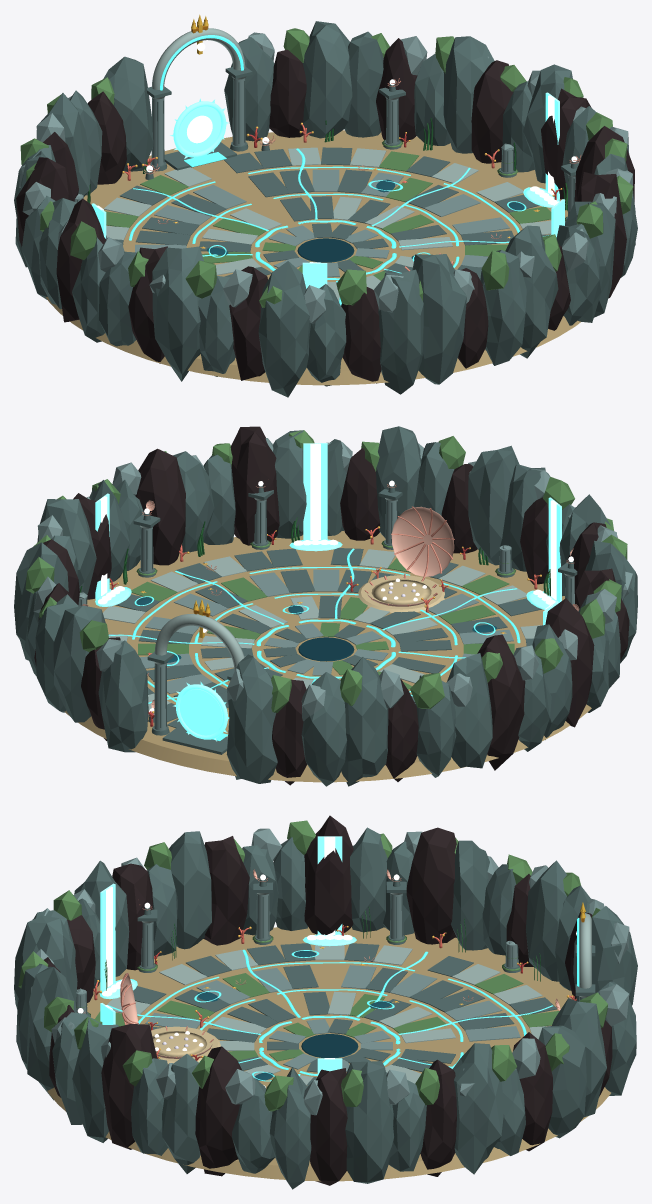
File: TideLair.glb
3 views of the same model, one above another, from view 1: azimuth 30°, elevation 25°; view 2: azimuth 150°, elevation 25°; view 3: azimuth 270°, elevation 25° (orthographic).
Visible parts, largest first — view 1: Walls, Body, Floor, Tide, Water, GlowCore, PortalRing; view 2: Walls, Body, Floor, Water, Tide, GlowCore, PortalRing; view 3: Walls, Body, Floor, Tide, Water, GlowCore.
Part boxes in pixels (x1,y1,x2,y2): Walls: (14, 21, 637, 397); Body: (103, 14, 551, 302); Floor: (45, 130, 580, 385); Tide: (129, 35, 550, 305); Water: (91, 92, 564, 288); GlowCore: (96, 42, 577, 263); PortalRing: (170, 98, 228, 158); Walls: (14, 426, 637, 786); Body: (103, 506, 542, 754); Floor: (64, 531, 591, 782); Water: (95, 443, 561, 735); Tide: (108, 548, 520, 740); GlowCore: (98, 443, 573, 714); PortalRing: (173, 681, 229, 741); Walls: (14, 815, 637, 1189); Body: (95, 902, 595, 1086); Floor: (47, 927, 610, 1181); Tide: (107, 917, 579, 1081); Water: (99, 836, 356, 1075); GlowCore: (77, 836, 576, 1087).
Size of the model in its own units: 127 by 38.76 by 126.
7 materials, 3 textured.
